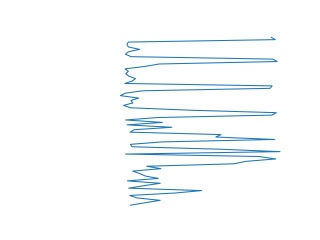crevasseRiverChannelBar: (124, 161, 267, 207)
majorRiverBedLagDeposit: (120, 120, 284, 163)
majorRiverChannelBar: (116, 35, 281, 117)
